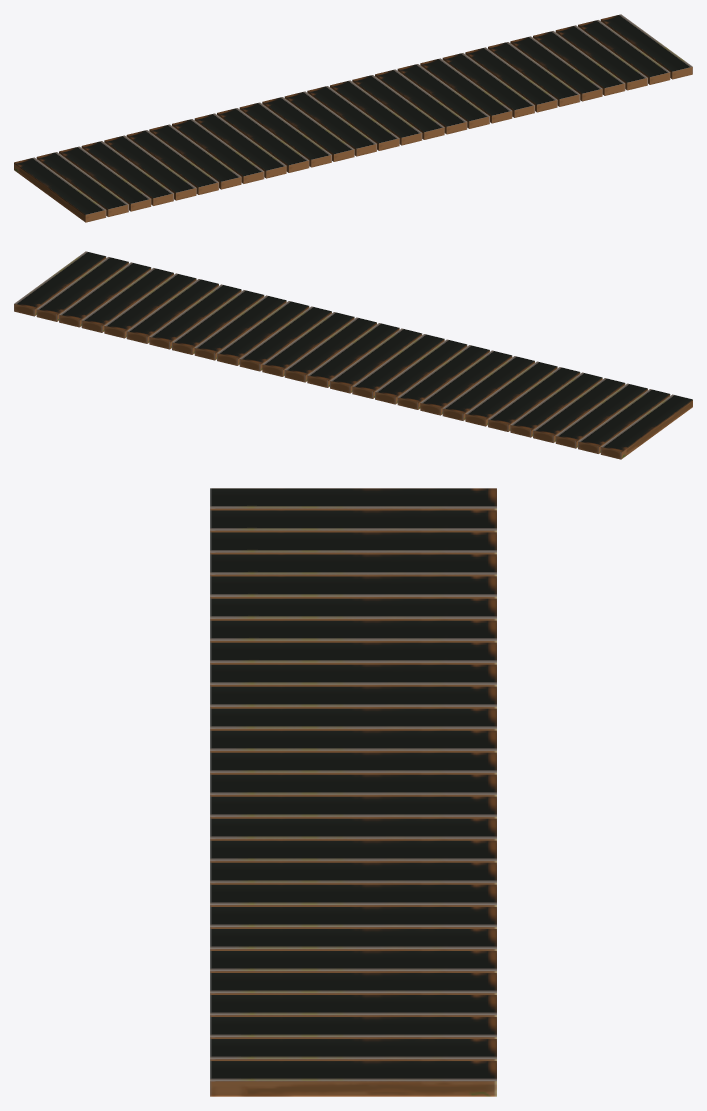
The model's file is wood_floor.fbx.
3 views of the same model, one above another, from view 1: azimuth 30°, elevation 25°; view 2: azimuth 150°, elevation 25°; view 3: azimuth 270°, elevation 25° (orthographic). The views are drawn at different scales.
Visible parts, largest first — view 1: Cube.011; view 2: Cube.011; view 3: Cube.011.
Boxes of the visible parts, x1,y1,x2,y2 form: Cube.011: (14,14,692,222); Cube.011: (14,251,692,459); Cube.011: (210,488,496,1096).
Size of the model in its own units: 1292 by 15.82 by 264.
